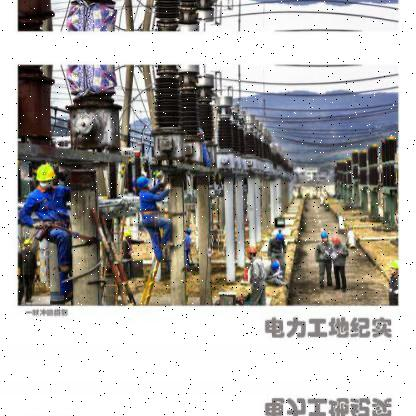Helmet: (32, 160, 58, 190), (138, 172, 156, 194), (247, 244, 262, 262), (332, 236, 346, 252), (270, 258, 282, 276), (274, 234, 288, 244), (390, 262, 399, 276), (322, 233, 330, 244)
